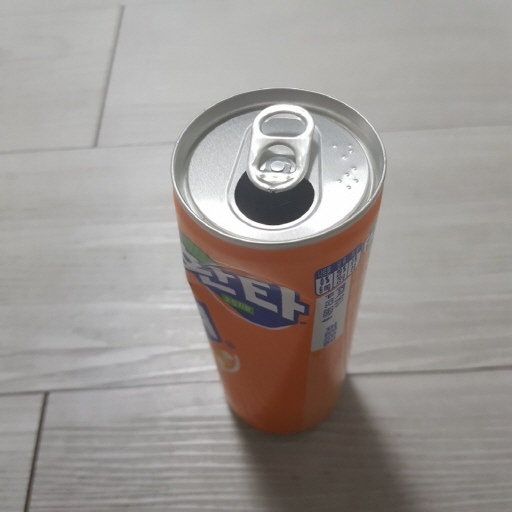Metal_0: (173, 84, 387, 436)
